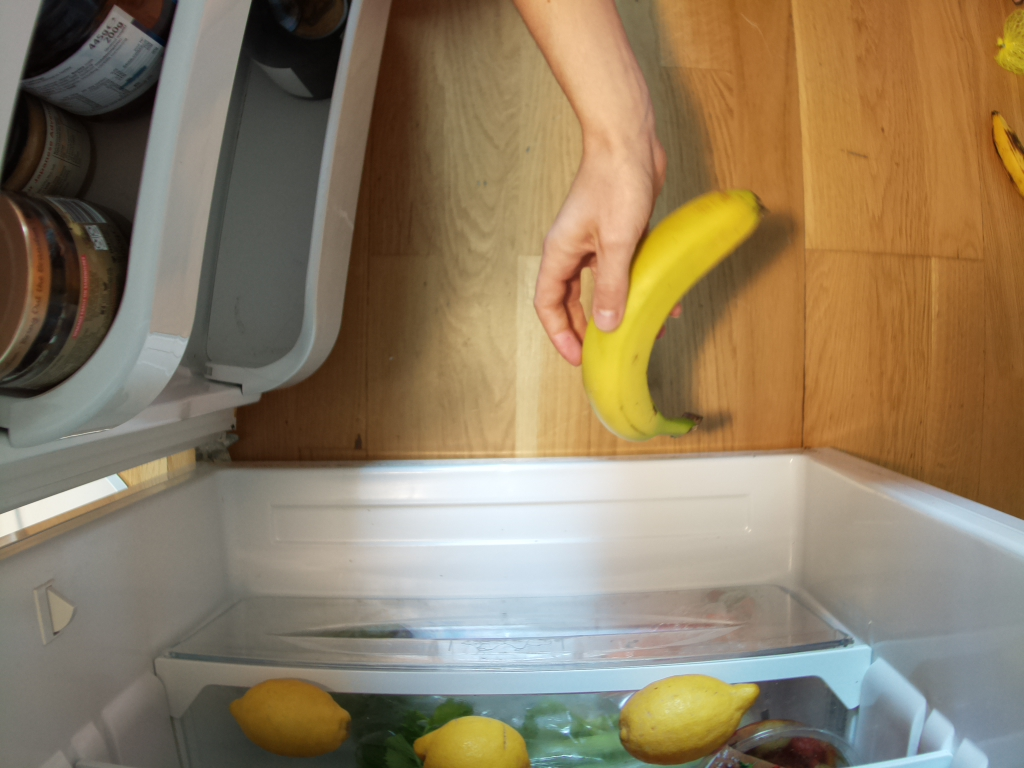banana-unripe: (580, 189, 761, 445)
